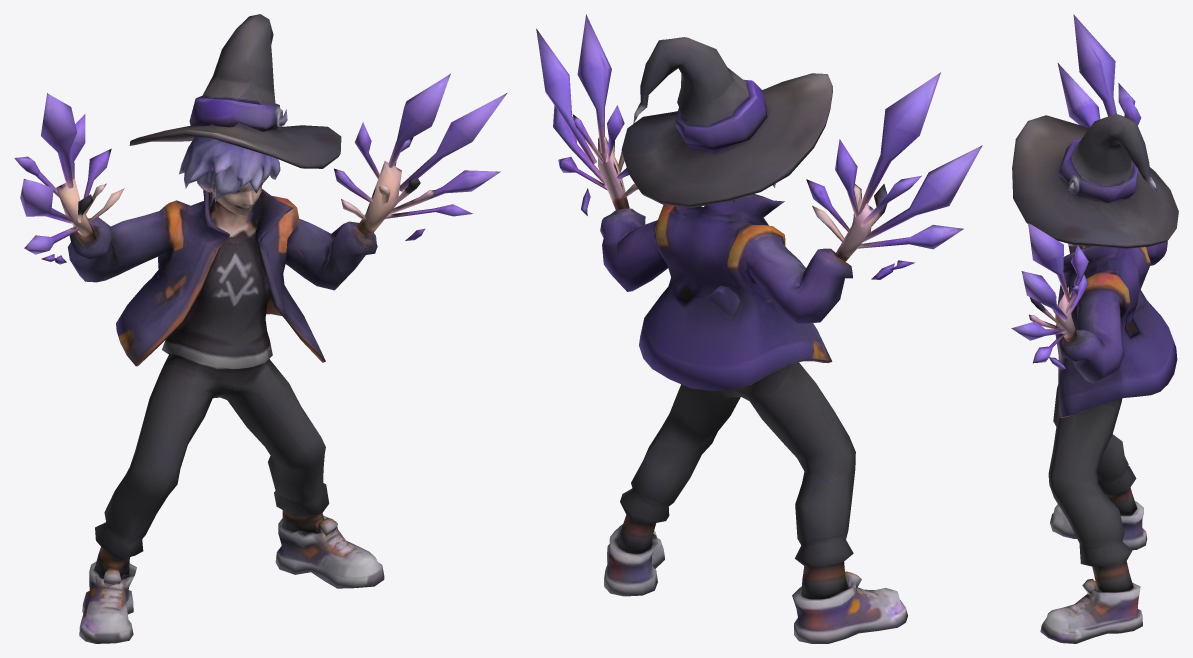
File: wise_random_play.glb
3 views of the same model, side by side, from view 1: azimuth 30°, elevation 25°; view 2: azimuth 150°, elevation 25°; view 3: azimuth 270°, elevation 25° (orthographic). The views are drawn at different scales.
Parts seen in each view (by area): view 1: Mesh_0; view 2: Mesh_0; view 3: Mesh_0.
Boxes of the visible parts, x1,y1,x2,y2 form: Mesh_0: [14, 14, 507, 643]; Mesh_0: [536, 14, 982, 643]; Mesh_0: [1011, 14, 1178, 643].
Bounding box in the file's own units: 1.74 × 2 × 0.6223.
1 material, 1 textured.
